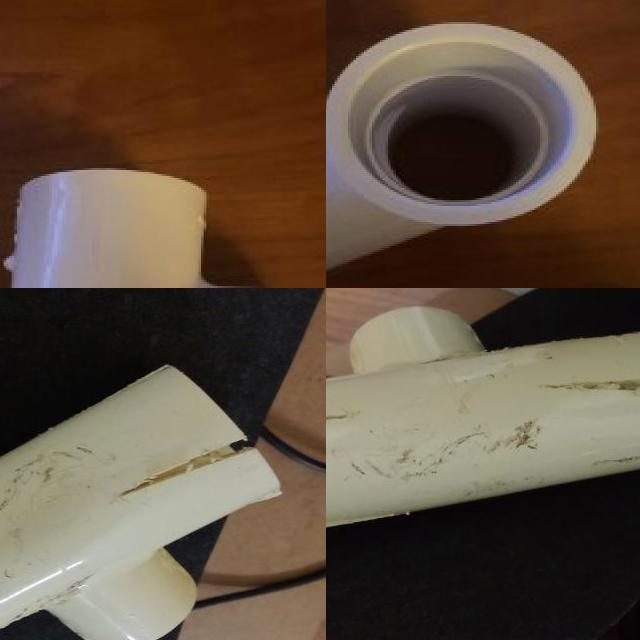Defective: (120, 441, 259, 499), (455, 384, 572, 435), (535, 380, 640, 419), (592, 442, 640, 476), (451, 358, 480, 362)
L Joint: (4, 169, 258, 288)
T Joint: (0, 365, 283, 640), (326, 309, 640, 533), (326, 24, 599, 270)
